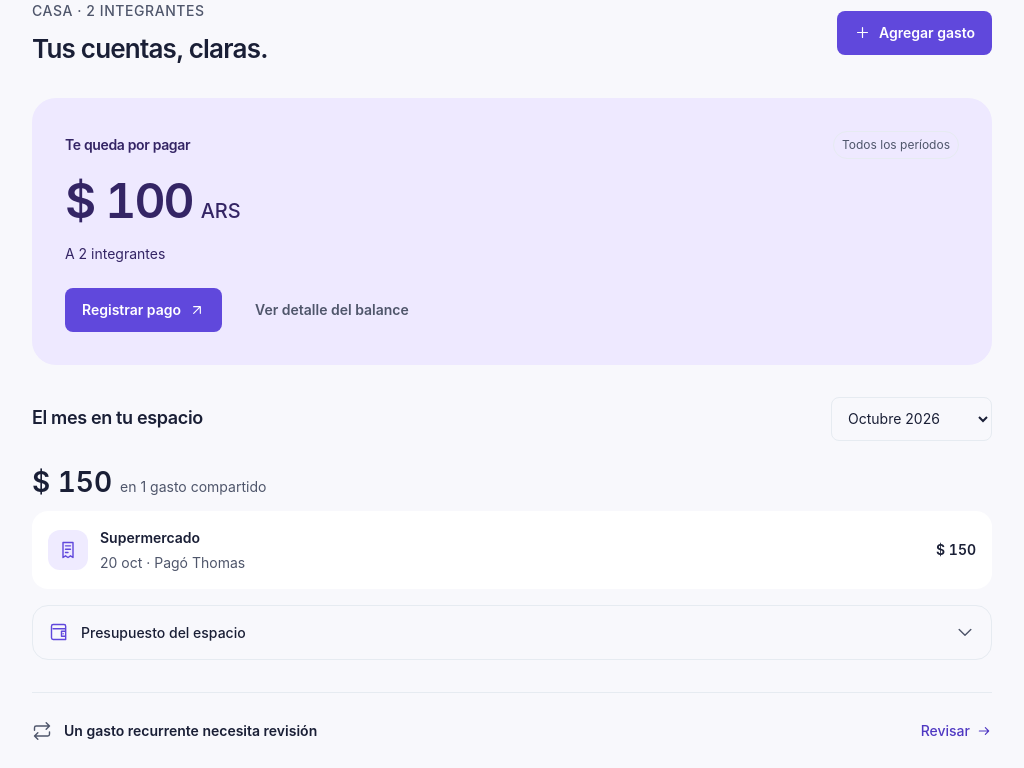
Test: permite elegir deuda y registrar un pago parcial sin perder el mes seleccionado
This screenshot has width=1024, height=768.
Expected: the text "A 2 integrantes" is shown, [65,244,165,262]
Select "Septiembre 2026" in the dropdown named "Mes de los gastos": coordinates (912, 418) [831,396,992,440]
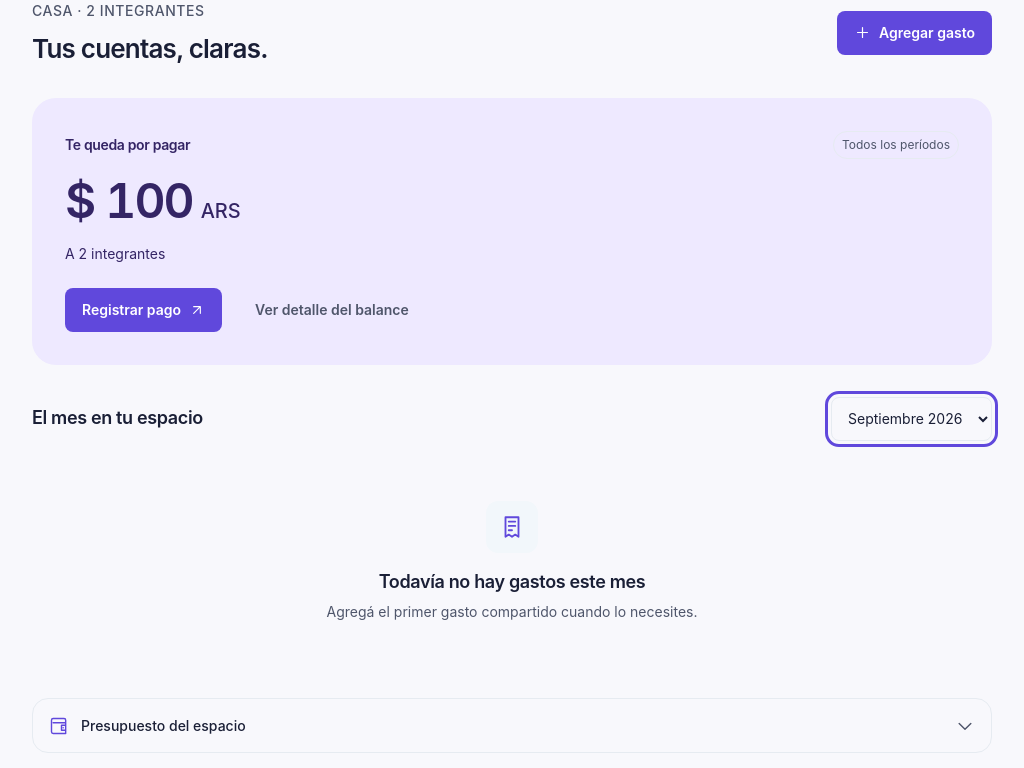
Click the button "Registrar pago": coordinates (144, 310) [65,288,222,332]
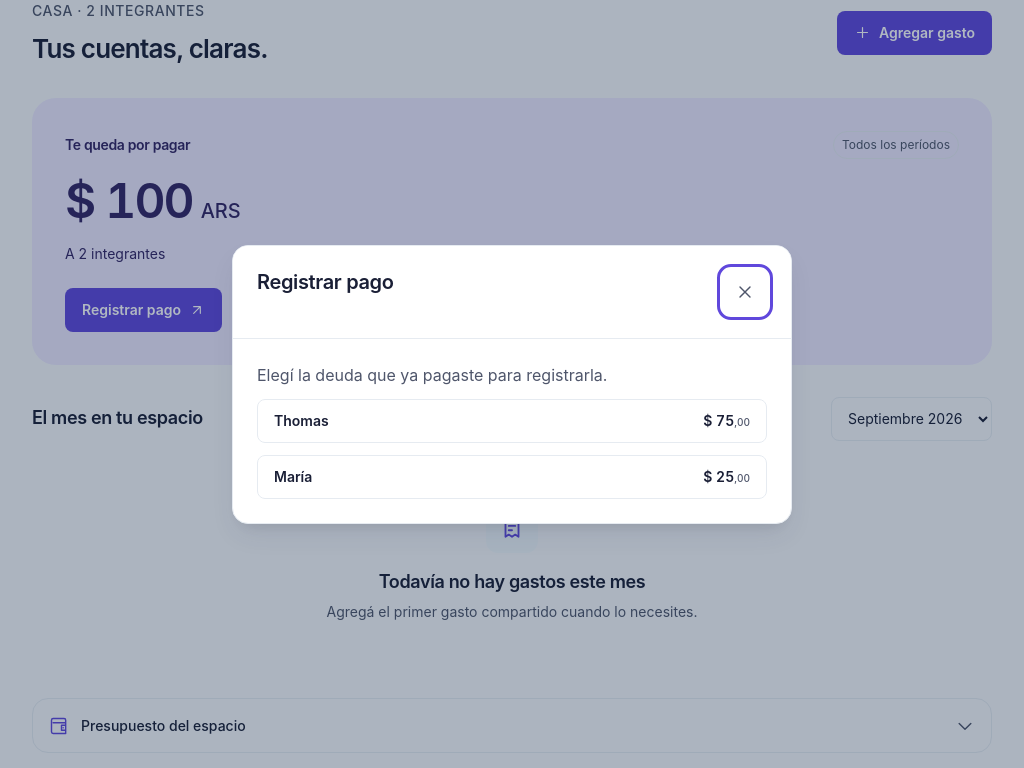
Click the button "Thomas $ 75,00": coordinates (301, 420) [257,398,767,442]
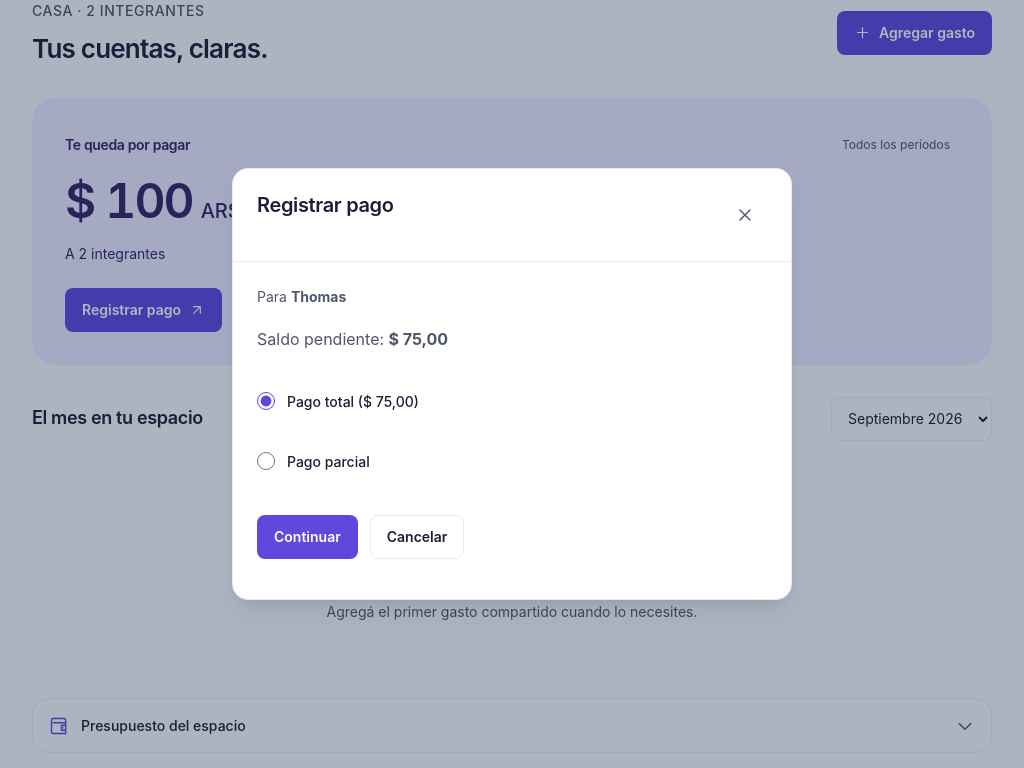
Click the radio button labelled "Pago parcial": coordinates (266, 461) [257,452,275,470]
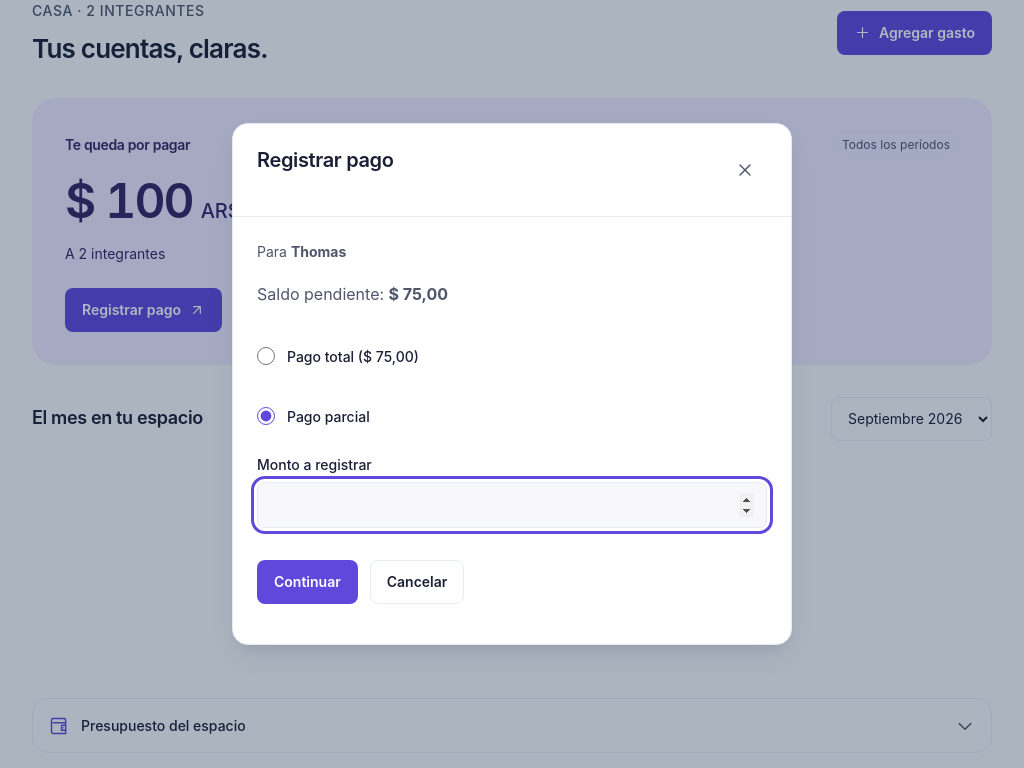
In the number field labelled "Monto a registrar": coordinates (512, 505) [257,482,767,528], type "25"
Click the button "Continuar": coordinates (307, 582) [257,560,358,604]
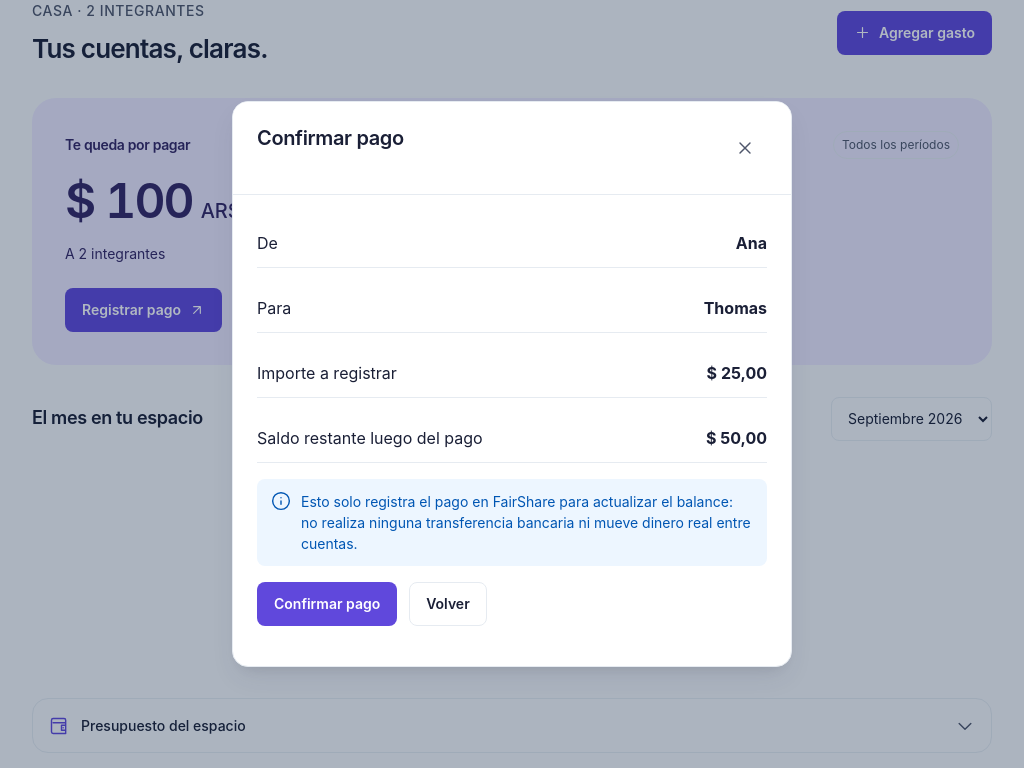
Click the button "Confirmar pago": coordinates (327, 604) [257,582,397,626]
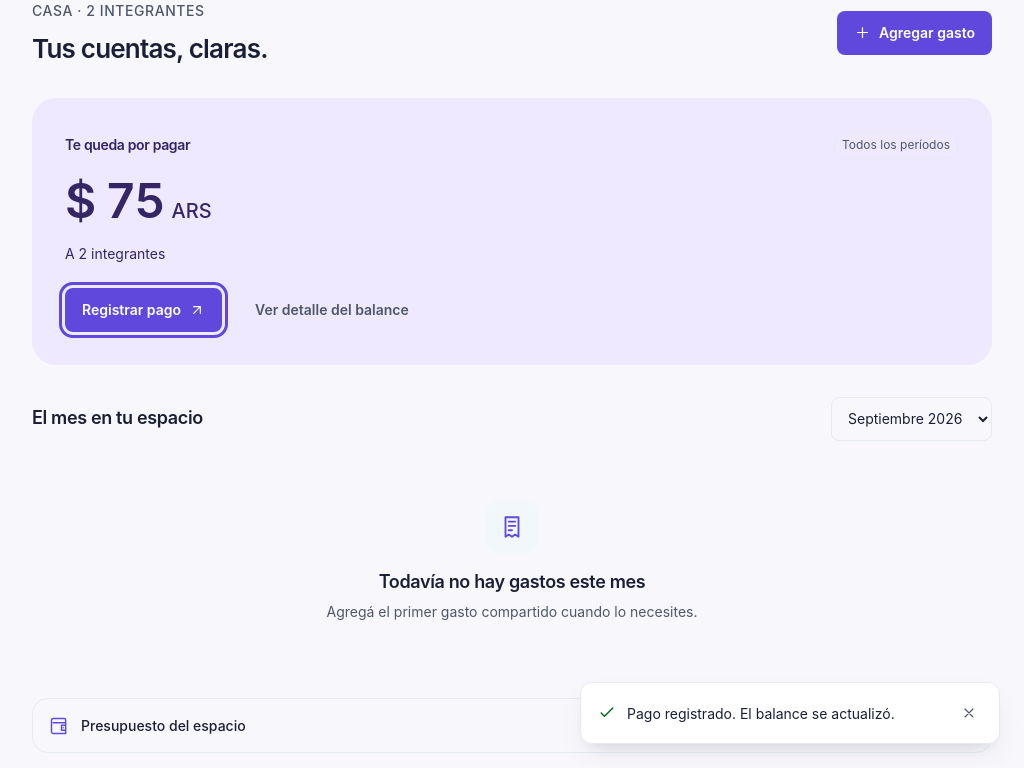
Expected: the heading "Te queda por pagar" is shown, [65,136,190,153]
Now the dialog is gone
